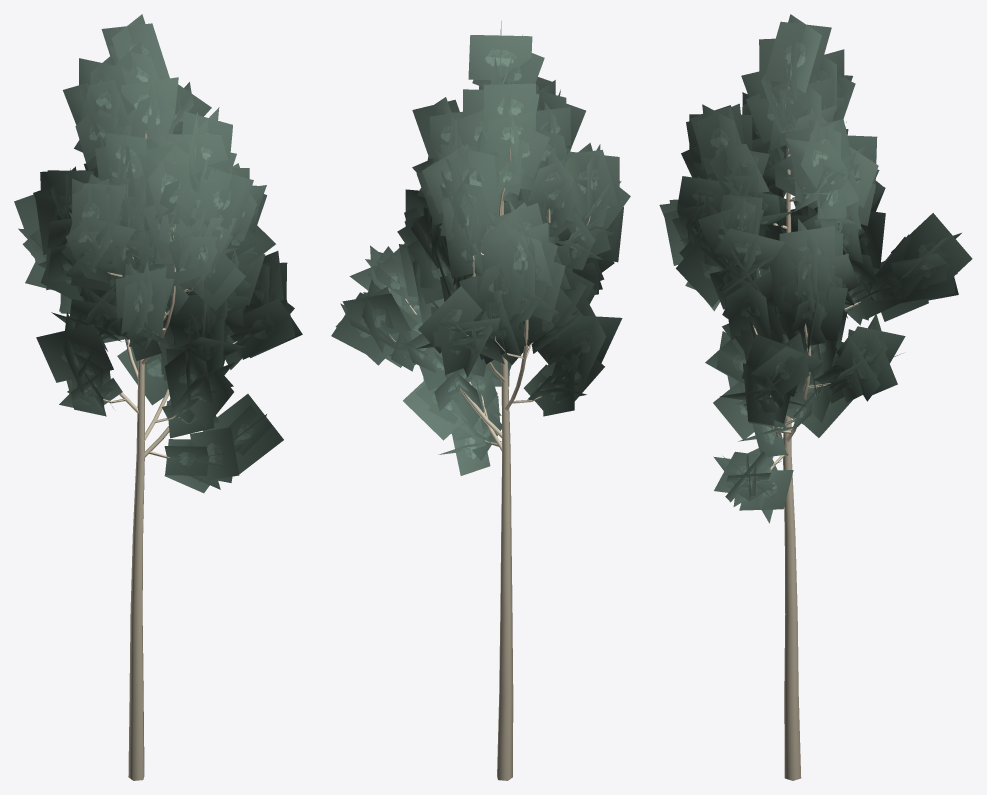
Rendered from eucalipto.glb.
3 renders of one model, left to right at view 1: azimuth 30°, elevation 25°; view 2: azimuth 150°, elevation 25°; view 3: azimuth 270°, elevation 25°, orthographic.
Parts seen in each view (by area): view 1: eucalipto; view 2: eucalipto; view 3: eucalipto.
Boxes of the visible parts, left/top/right/bottom form: eucalipto: left=14, top=14, right=302, bottom=780; eucalipto: left=331, top=21, right=630, bottom=780; eucalipto: left=659, top=14, right=972, bottom=780.
Bounding box in the file's own units: 6.86 × 20 × 7.47.
Materials: 2 (1 with a texture image).
